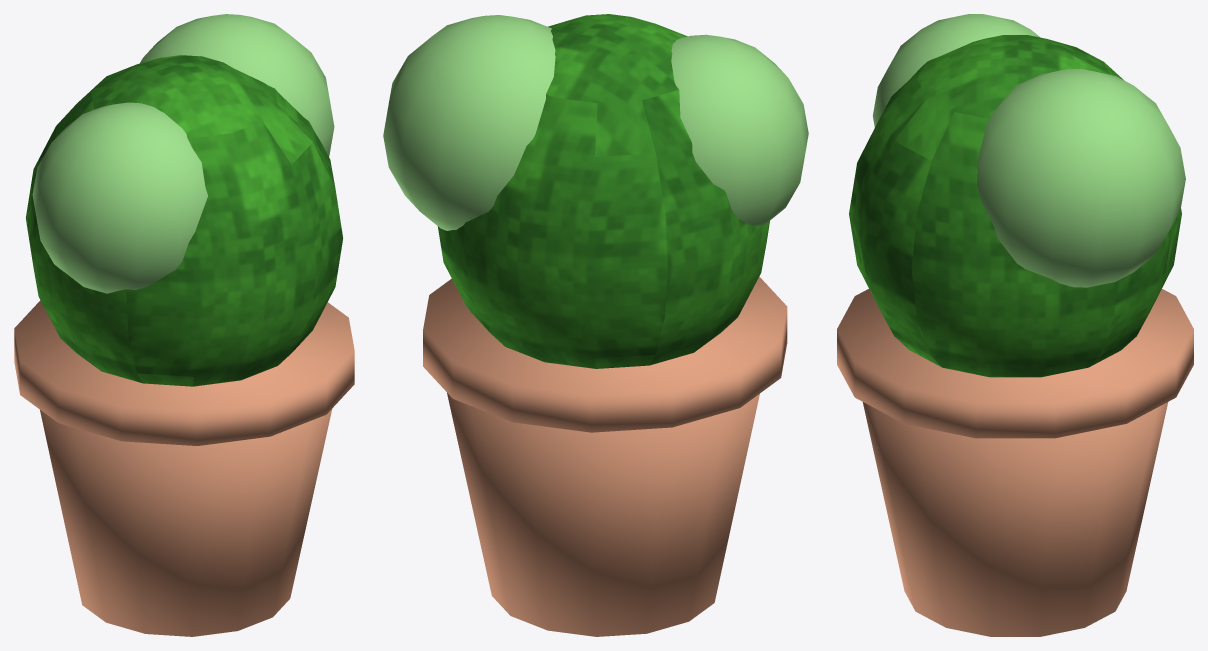
The model's file is plant_pot.glb.
3 views of the same model, side by side, from view 1: azimuth 30°, elevation 25°; view 2: azimuth 150°, elevation 25°; view 3: azimuth 270°, elevation 25° (orthographic). The views are drawn at different scales.
Visible parts, largest first — view 1: Bush1, PotBody, Bush3, PotRim, Bush2; view 2: Bush1, PotBody, PotRim, Bush2, Bush3; view 3: Bush1, PotBody, Bush2, PotRim, Bush3.
Part boxes in pixels (bbox=[...]): Bush1: bbox=[26, 55, 343, 386]; PotBody: bbox=[40, 409, 332, 636]; Bush3: bbox=[32, 102, 207, 293]; PotRim: bbox=[14, 300, 354, 445]; Bush2: bbox=[140, 14, 334, 156]; Bush1: bbox=[438, 14, 769, 368]; PotBody: bbox=[447, 393, 759, 636]; PotRim: bbox=[423, 276, 787, 432]; Bush2: bbox=[383, 15, 555, 230]; Bush3: bbox=[671, 34, 808, 225]; Bush1: bbox=[849, 35, 1181, 377]; PotBody: bbox=[862, 402, 1168, 636]; Bush2: bbox=[977, 69, 1185, 287]; PotRim: bbox=[837, 289, 1193, 438]; Bush3: bbox=[873, 14, 1040, 127].
Bounding box in the file's own units: 0.9665 × 1.53 × 0.9.
Materials: 4 (1 with a texture image).
